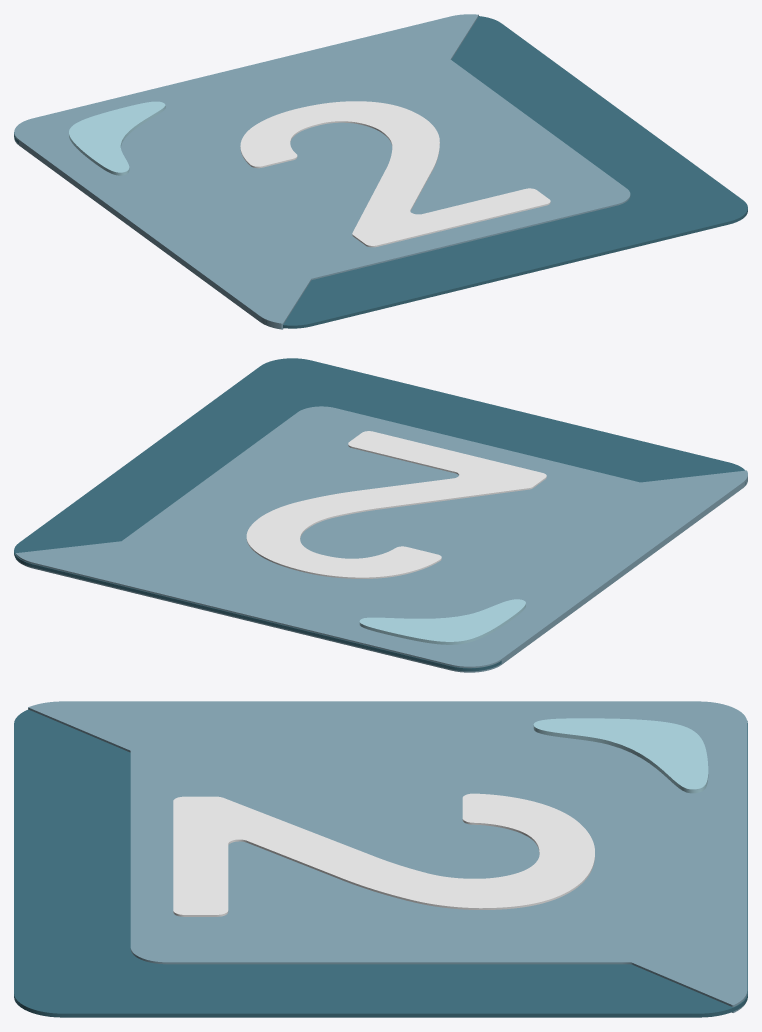
File: emoji_u0032_20e3.glb
3 renders of one model, top to bottom at view 1: azimuth 30°, elevation 25°; view 2: azimuth 150°, elevation 25°; view 3: azimuth 270°, elevation 25°, orthographic. The views are drawn at different scales.
Visible parts, largest first — view 1: emoji_u0032_20e3; view 2: emoji_u0032_20e3; view 3: emoji_u0032_20e3.
Part boxes in pixels (box(x1,y1,x2,y2)): emoji_u0032_20e3: box(14, 14, 747, 329); emoji_u0032_20e3: box(14, 358, 747, 672); emoji_u0032_20e3: box(14, 701, 747, 1017).
Size of the model in its own units: 0.0339 by 0.0008 by 0.0339.
